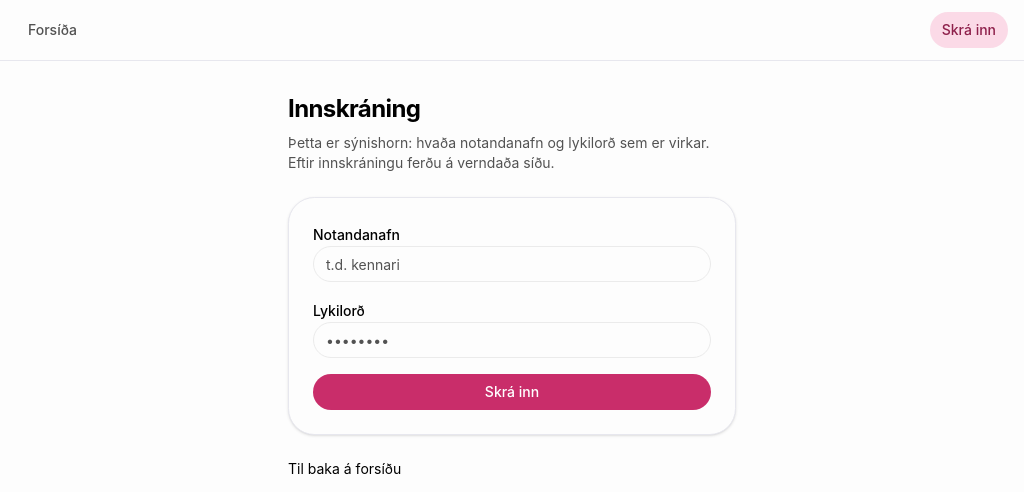
Test: Login (E2E) › Login and redirect to welcome page
Type "kennari" into the field labelled "Notandanafn" at (512, 264), box left=313, top=246, right=711, bottom=282
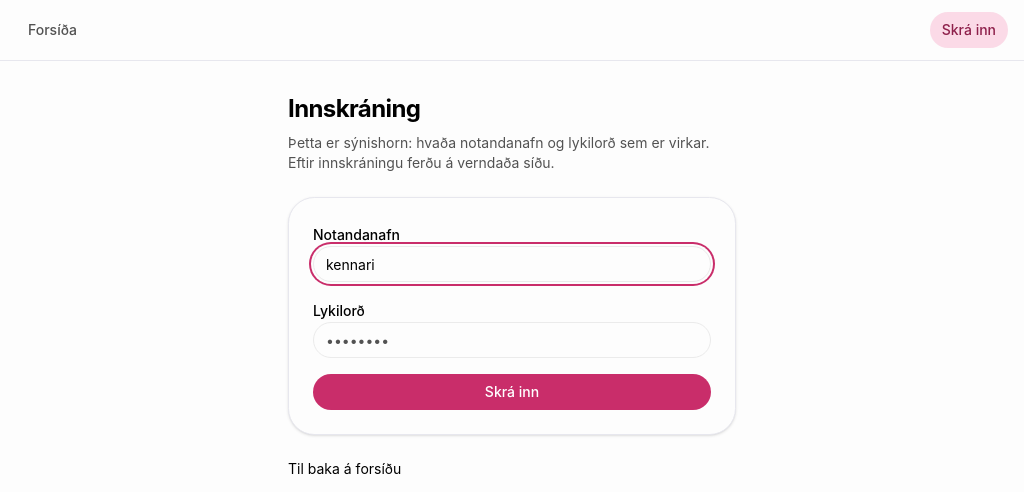
Type "lykilorð" into the password field labelled "Lykilorð" at (512, 340), box left=313, top=322, right=711, bottom=358
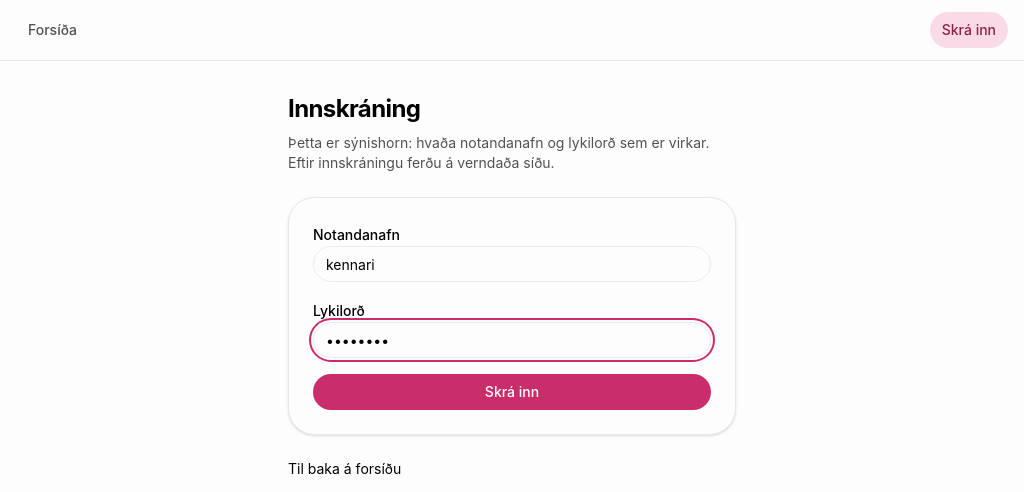
Click the button "Skrá inn" at (512, 392), box left=313, top=374, right=711, bottom=410
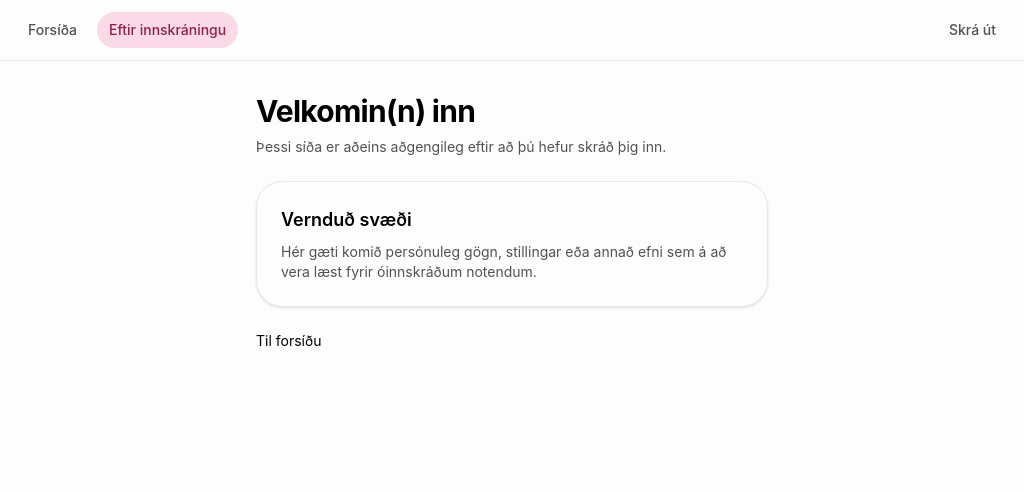
Check: the heading "Velkomin(n) inn" is shown, box left=256, top=93, right=475, bottom=129
